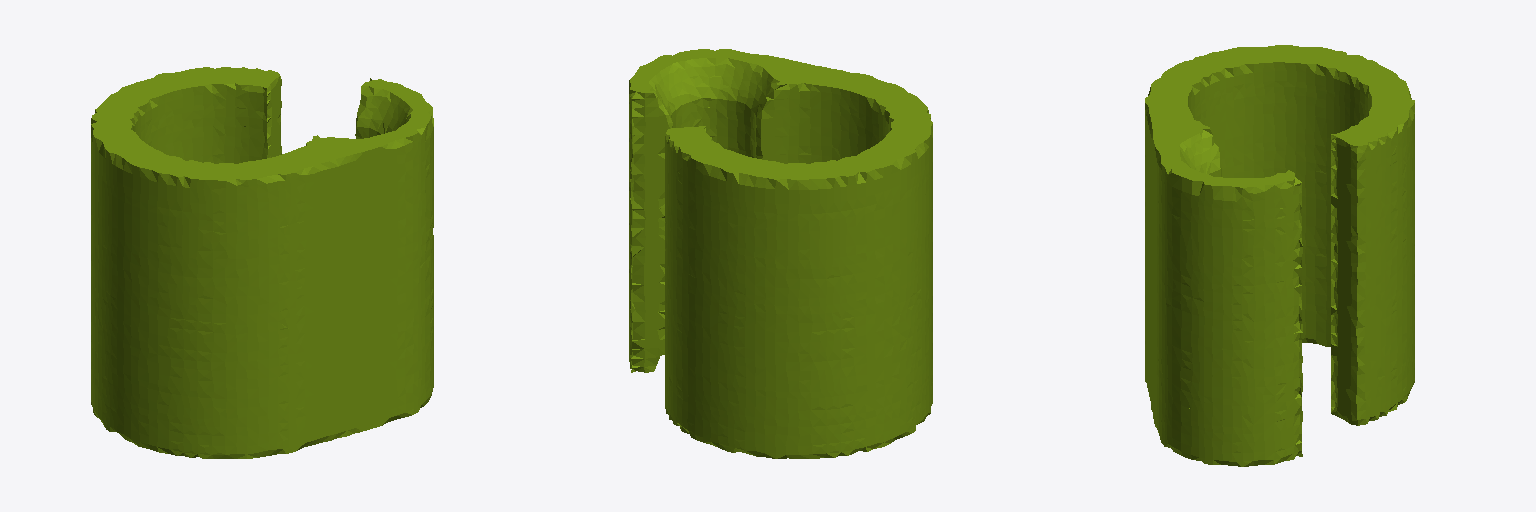
Rendered from model_decimated.obj.
3 renders of one model, left to right at view 1: azimuth 30°, elevation 25°; view 2: azimuth 150°, elevation 25°; view 3: azimuth 270°, elevation 25°, orthographic.
Bounding box in the file's own units: 8.81 × 8 × 6.99.